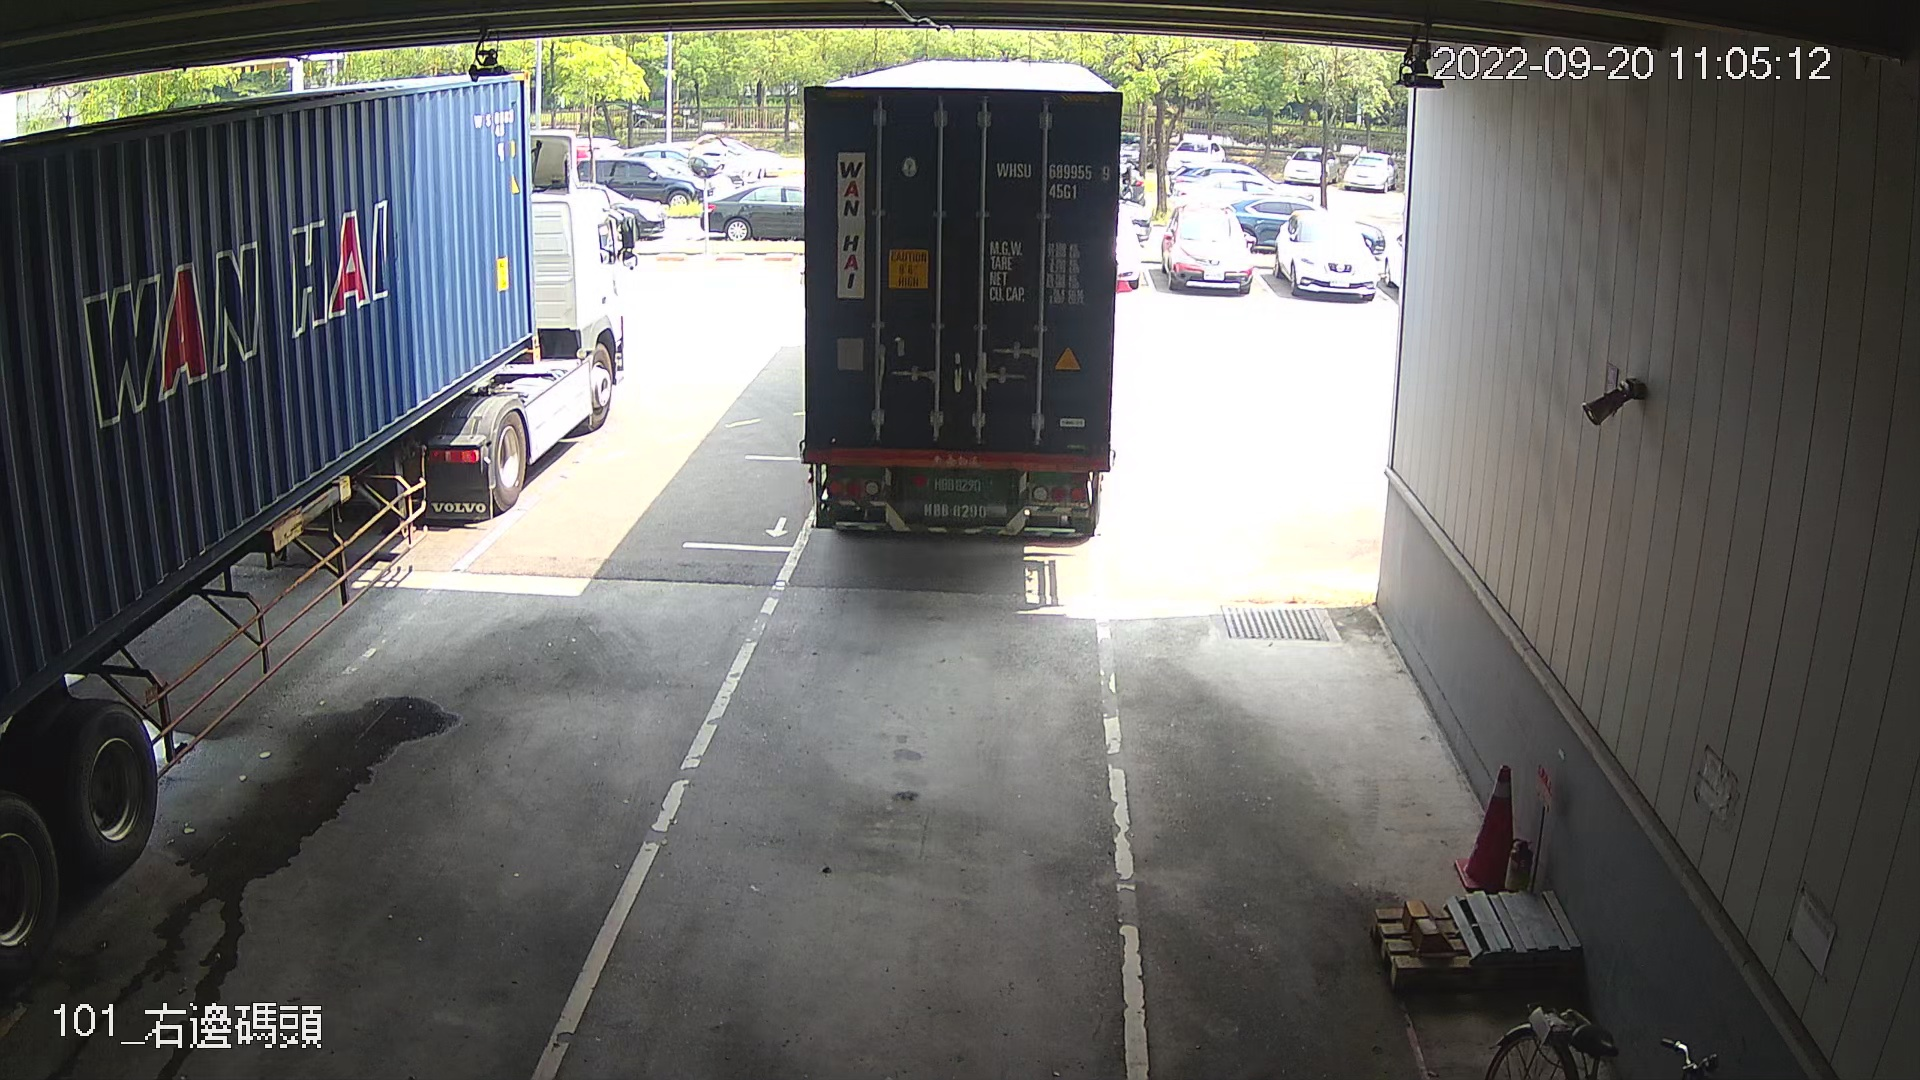container: (992, 152, 1114, 208)
